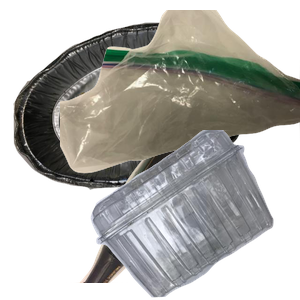glass: (66, 120, 279, 300)
metal: (11, 20, 251, 200)
plastic: (88, 130, 300, 300)
trash: (60, 10, 300, 176)
